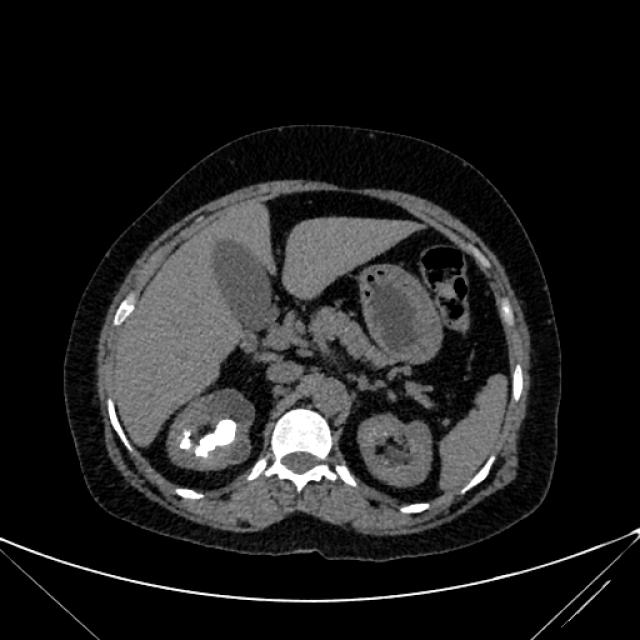kidney: (175, 395, 253, 469), (362, 418, 424, 482)
stone: (200, 424, 231, 445), (183, 431, 191, 449)
